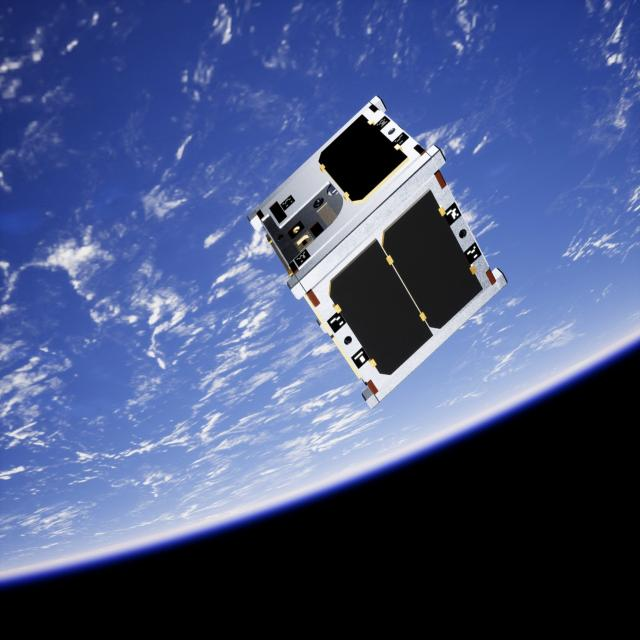satellite: (243, 90, 507, 408)
